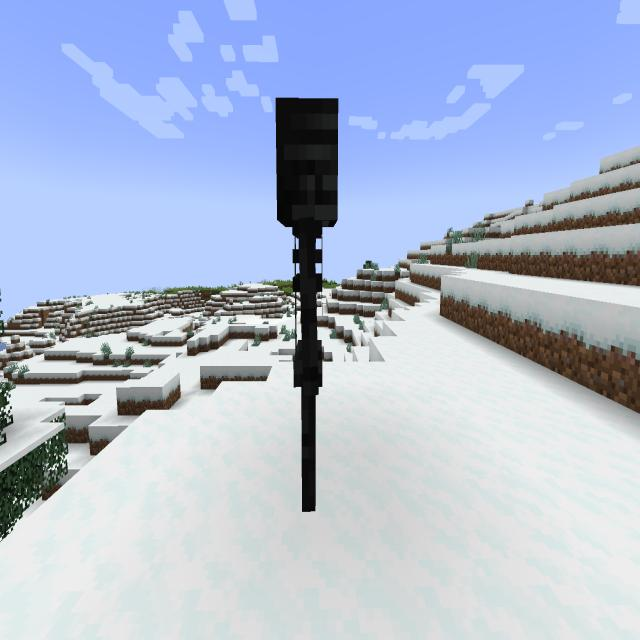Wither Skeleton: (266, 84, 354, 528)
